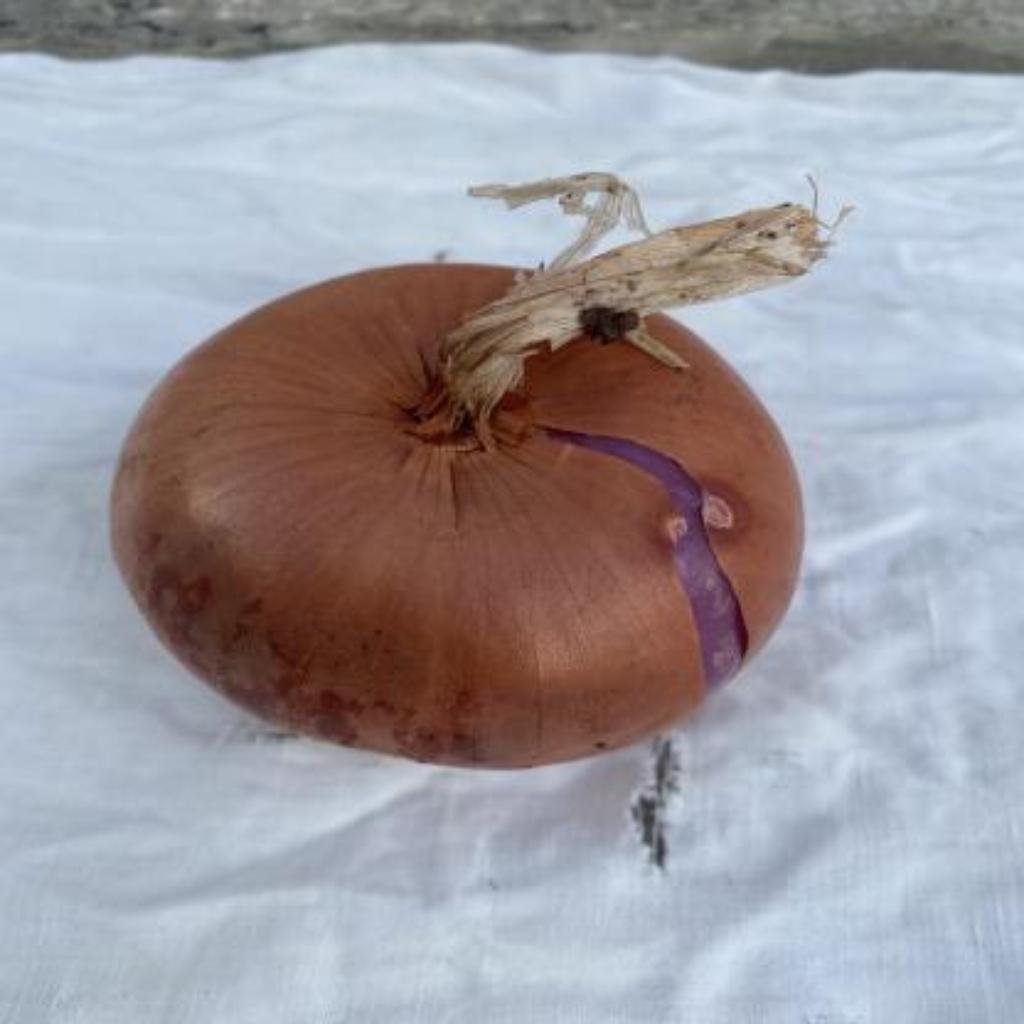Onion: (113, 172, 841, 769)
